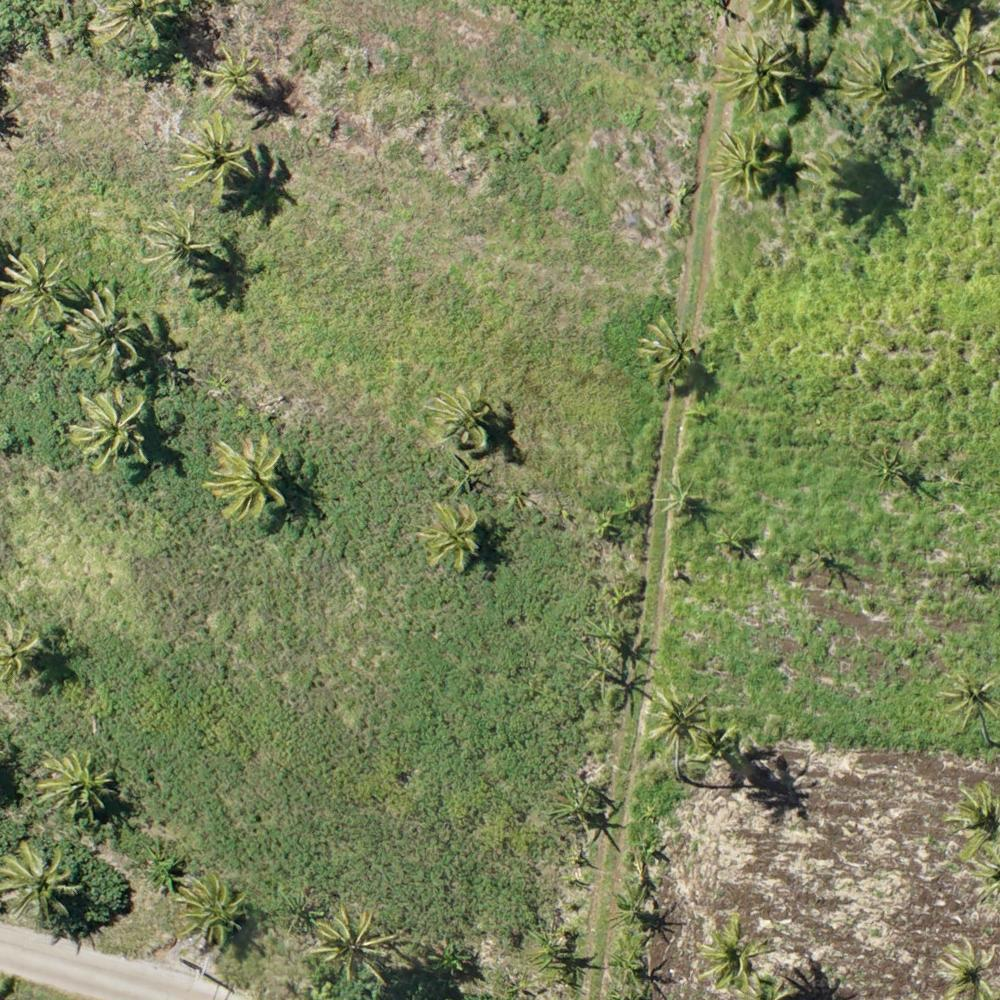Palm: (689, 912, 779, 992), (306, 904, 400, 980), (205, 436, 291, 518), (1, 845, 83, 929), (37, 746, 123, 826), (67, 289, 145, 376), (918, 10, 992, 101), (69, 389, 150, 472), (717, 31, 799, 110), (173, 114, 248, 193), (3, 247, 75, 329), (838, 43, 913, 116), (178, 877, 250, 948), (425, 380, 497, 450), (707, 128, 781, 196), (143, 215, 215, 283), (420, 499, 484, 574), (934, 663, 1000, 735), (648, 678, 711, 749), (933, 934, 1000, 998), (636, 315, 699, 373), (200, 46, 257, 102)
